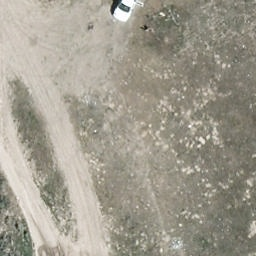car: (113, 0, 146, 23)
